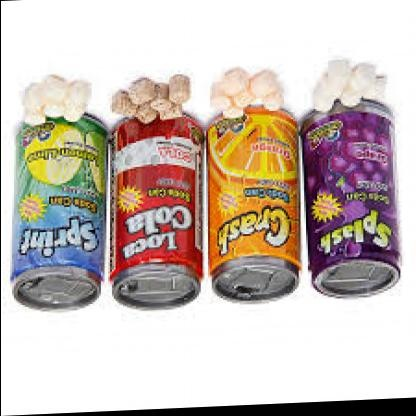trash: (301, 60, 399, 296), (13, 75, 106, 307), (111, 74, 203, 306), (207, 68, 299, 299)
